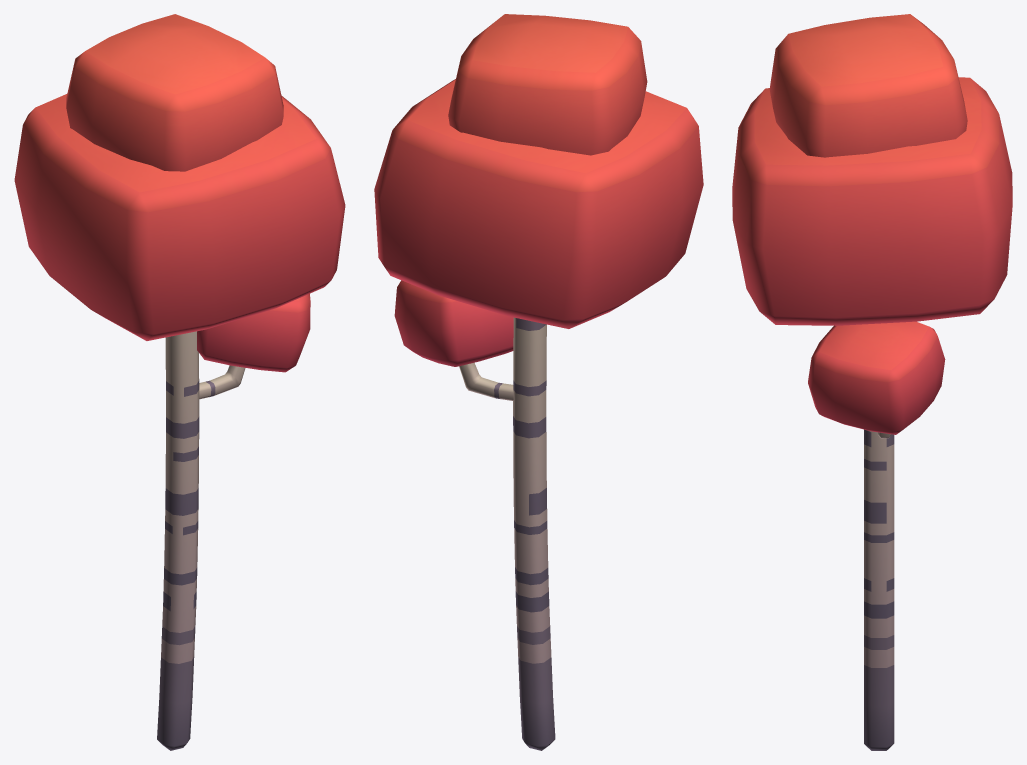
The model's file is birch_tree_SC_04.fbx.
The picture shows the model from 3 angles, left to right: view 1: azimuth 30°, elevation 25°; view 2: azimuth 150°, elevation 25°; view 3: azimuth 270°, elevation 25°; orthographic projection.
Visible parts, largest first — view 1: birch_tree_SC_04; view 2: birch_tree_SC_04; view 3: birch_tree_SC_04.
Part boxes in pixels (x1,y1,x2,y2): birch_tree_SC_04: (14, 14, 345, 750); birch_tree_SC_04: (374, 14, 703, 750); birch_tree_SC_04: (732, 14, 1012, 750).
Size of the model in its own units: 365 by 975 by 351.
Materials: 1 (1 with a texture image).
